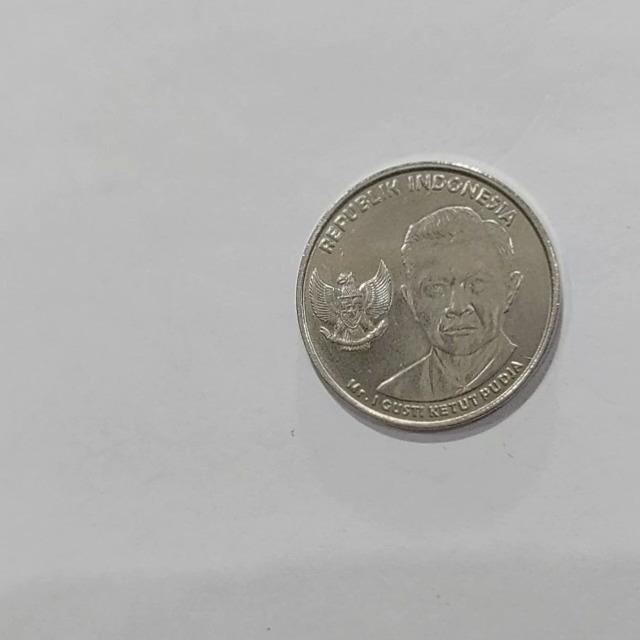Rp100: (295, 158, 563, 435), (370, 202, 527, 407)
